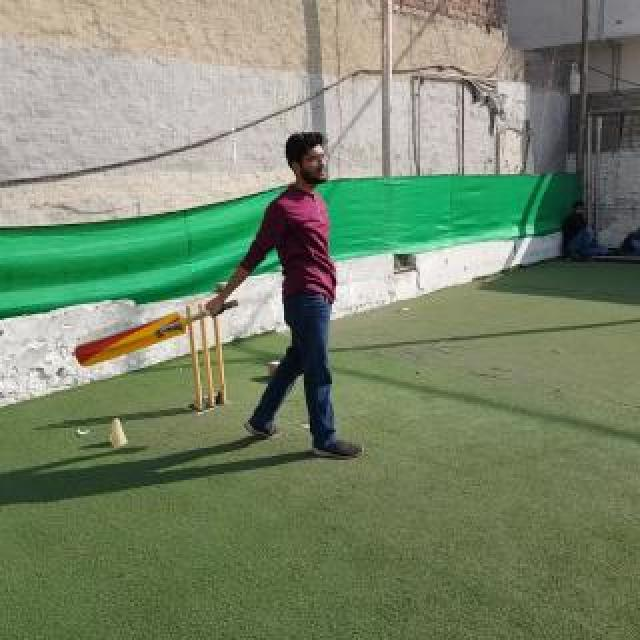bat: (76, 300, 240, 368)
